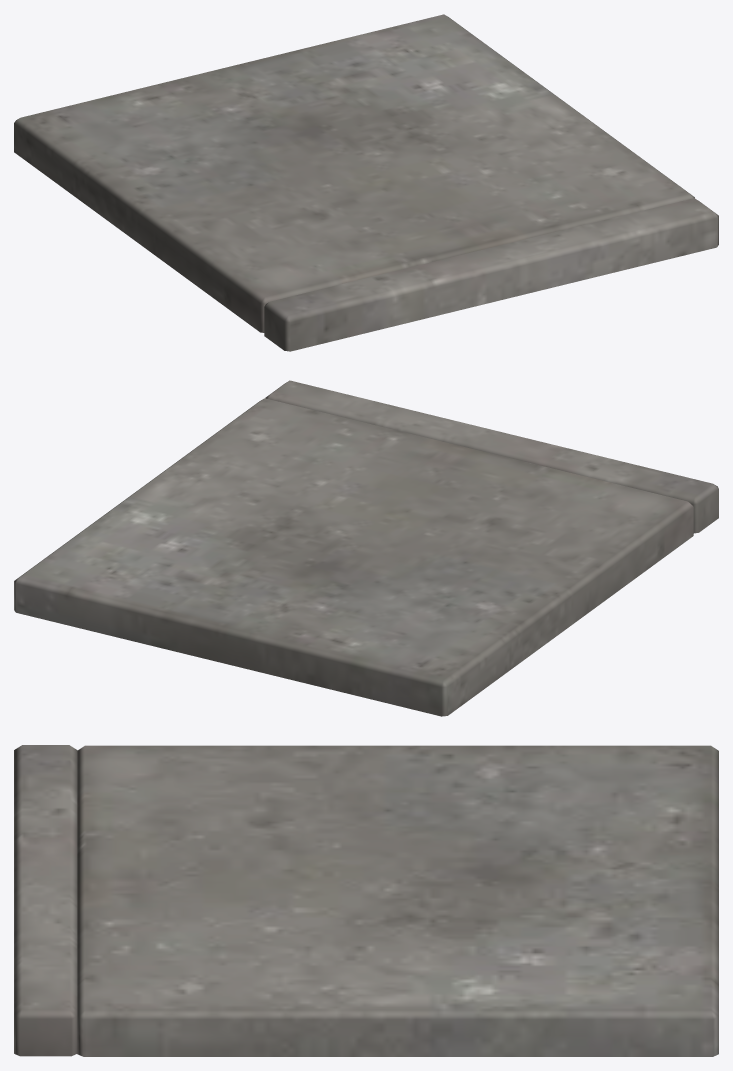
File: Sidewalk4.glb
The picture shows the model from 3 angles, top to bottom: view 1: azimuth 30°, elevation 25°; view 2: azimuth 150°, elevation 25°; view 3: azimuth 270°, elevation 25°; orthographic projection. The views are drawn at different scales.
Visible parts, largest first — view 1: SidewalkCurb_Small_SidewalkMat_0.002; view 2: SidewalkCurb_Small_SidewalkMat_0.002; view 3: SidewalkCurb_Small_SidewalkMat_0.002.
Part boxes in pixels (x1,y1,x2,y2): SidewalkCurb_Small_SidewalkMat_0.002: (14, 14, 718, 351); SidewalkCurb_Small_SidewalkMat_0.002: (14, 380, 718, 716); SidewalkCurb_Small_SidewalkMat_0.002: (14, 745, 718, 1056).
Bounding box in the file's own units: 2.01 × 0.1494 × 2.21.
1 material, 1 textured.
